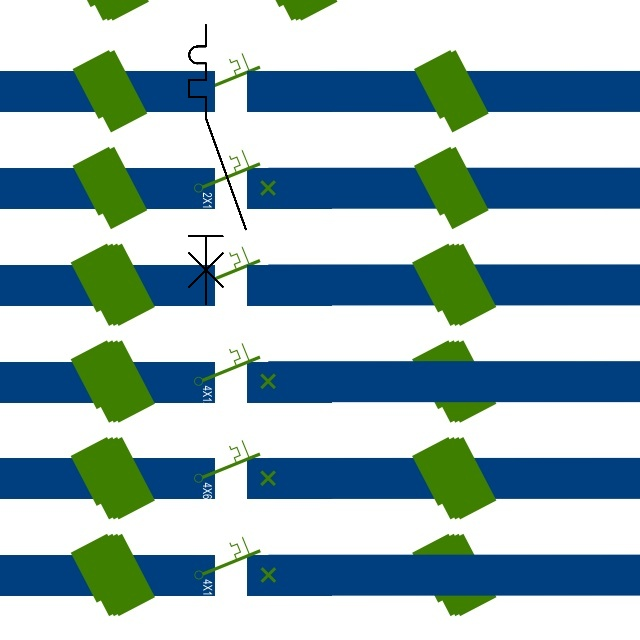interruptor_termomagnetico: (182, 18, 253, 311)
